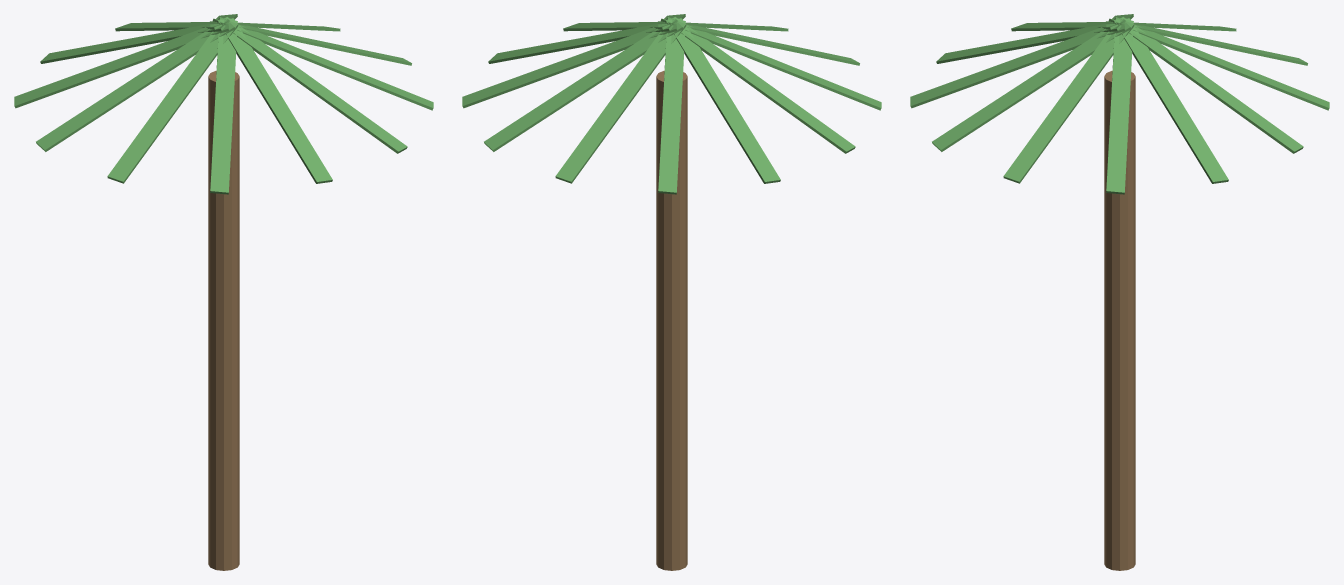
Rendered from palm_v2_01.glb.
3 renders of one model, left to right at view 1: azimuth 30°, elevation 25°; view 2: azimuth 150°, elevation 25°; view 3: azimuth 270°, elevation 25°, orthographic.
Parts seen in each view (by area): view 1: Trunk, Frond_10, Frond_11, Frond_9, Frond_0, Frond_1, Frond_8, Frond_2, Frond_7, Frond_3, Frond_6; view 2: Trunk, Frond_6, Frond_7, Frond_5, Frond_8, Frond_9, Frond_4, Frond_10, Frond_3, Frond_11, Frond_2; view 3: Trunk, Frond_2, Frond_3, Frond_1, Frond_4, Frond_5, Frond_0, Frond_6, Frond_11, Frond_7, Frond_10.
Boxes of the visible parts, <box> form: Trunk: <box>208,70,239,570</box>; Frond_10: <box>107,18,238,183</box>; Frond_11: <box>210,19,237,194</box>; Frond_9: <box>36,18,235,151</box>; Frond_0: <box>217,18,332,183</box>; Frond_1: <box>217,17,407,153</box>; Frond_8: <box>14,19,229,108</box>; Frond_2: <box>218,17,433,110</box>; Frond_7: <box>40,20,229,63</box>; Frond_3: <box>212,18,411,65</box>; Frond_6: <box>115,21,230,31</box>; Trunk: <box>656,70,687,570</box>; Frond_6: <box>555,18,686,183</box>; Frond_7: <box>658,19,685,194</box>; Frond_5: <box>484,18,683,151</box>; Frond_8: <box>665,18,780,183</box>; Frond_9: <box>665,17,855,153</box>; Frond_4: <box>462,19,677,108</box>; Frond_10: <box>666,17,881,110</box>; Frond_3: <box>488,20,677,63</box>; Frond_11: <box>660,18,859,65</box>; Frond_2: <box>563,21,678,31</box>; Trunk: <box>1104,70,1135,570</box>; Frond_2: <box>1003,18,1134,183</box>; Frond_3: <box>1106,19,1133,194</box>; Frond_1: <box>932,18,1131,151</box>; Frond_4: <box>1113,18,1228,183</box>; Frond_5: <box>1113,17,1303,153</box>; Frond_0: <box>910,19,1125,108</box>; Frond_6: <box>1114,17,1329,110</box>; Frond_11: <box>936,20,1125,63</box>; Frond_7: <box>1108,18,1307,65</box>; Frond_10: <box>1011,21,1126,31</box>.
Size of the model in its own units: 4.51 by 6.46 by 4.51.
